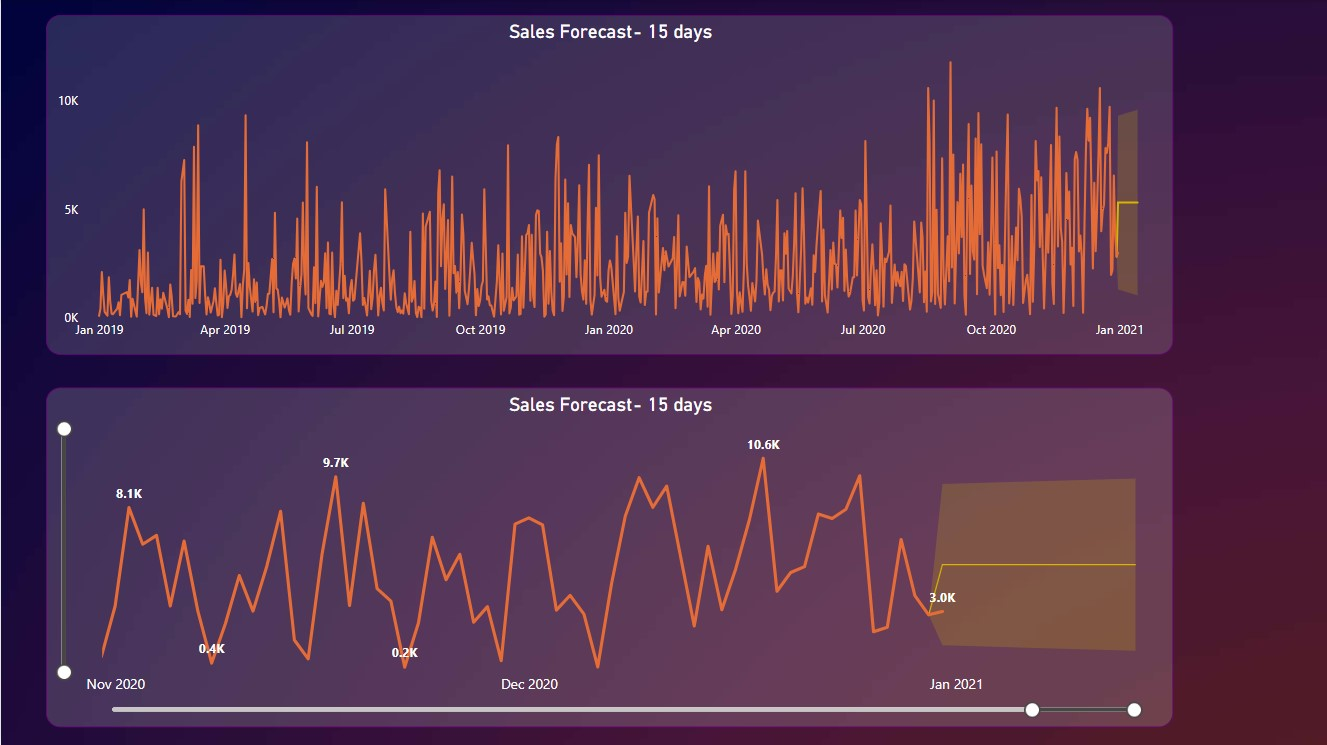

This screenshot's page, from the dashboard's own definition file:
{"tool":"powerbi","page":{"name":"Forecast","canvas":[1280,720],"ordinal":1},"visuals":[{"type":"lineChart","title":"Sales Forecast- 15 days","fields":{"Y":["Sum(SuperStore_Sales_Dataset.Sales)"],"Category":["SuperStore_Sales_Dataset.Order Date"]},"box":[44,14.7,1088.3,327.7],"z":0},{"type":"lineChart","title":"Sales Forecast- 15 days","fields":{"Y":["Sum(SuperStore_Sales_Dataset.Sales)"],"Category":["SuperStore_Sales_Dataset.Order Date"]},"box":[44,374.2,1088.3,327.7],"z":1000}]}

Visuals, with their boxes in screenshot pixels (x1, y1, x2, y2), scaled from the page's 1280x720 canvas onto the 1327x745 screenshot:
"Sales Forecast- 15 days" lineChart: left=46, top=15, right=1174, bottom=354
"Sales Forecast- 15 days" lineChart: left=46, top=387, right=1174, bottom=726
